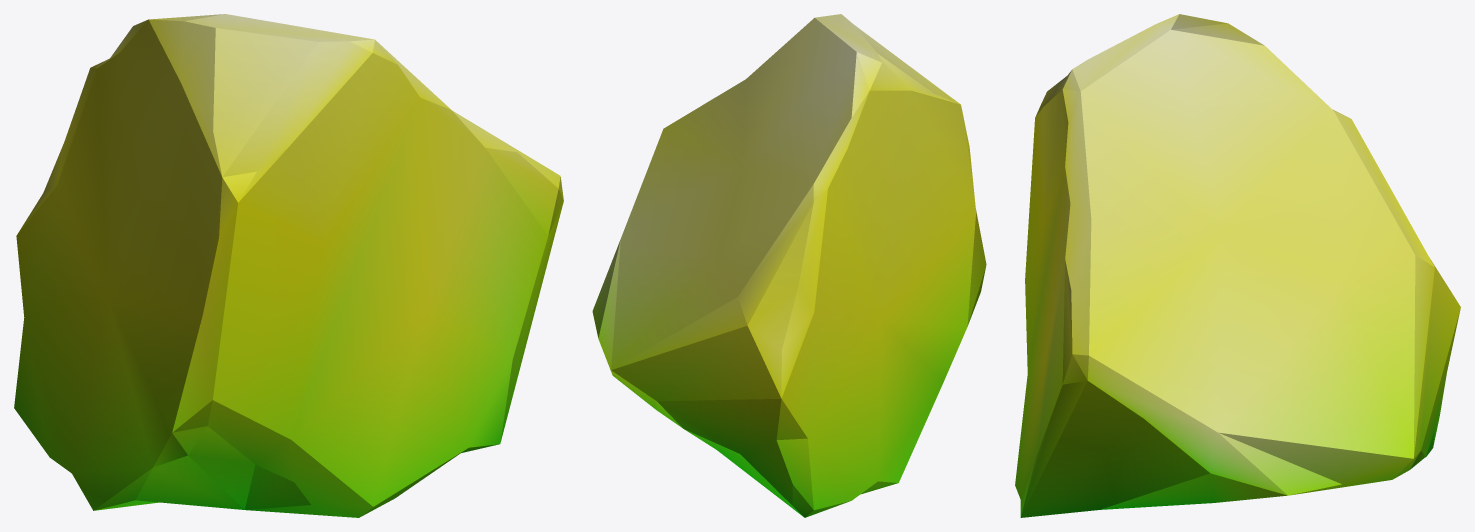
File: rock_solo_03_LOD1.fbx
3 views of the same model, side by side, from view 1: azimuth 30°, elevation 25°; view 2: azimuth 150°, elevation 25°; view 3: azimuth 270°, elevation 25° (orthographic). The views are drawn at different scales.
Visible parts, largest first — view 1: LOD1; view 2: LOD1; view 3: LOD1.
Boxes of the visible parts, x1,y1,x2,y2 form: LOD1: (14, 14, 563, 517); LOD1: (592, 14, 986, 517); LOD1: (1015, 14, 1460, 517).
Bounding box in the file's own units: 25356 × 31059 × 26336.
